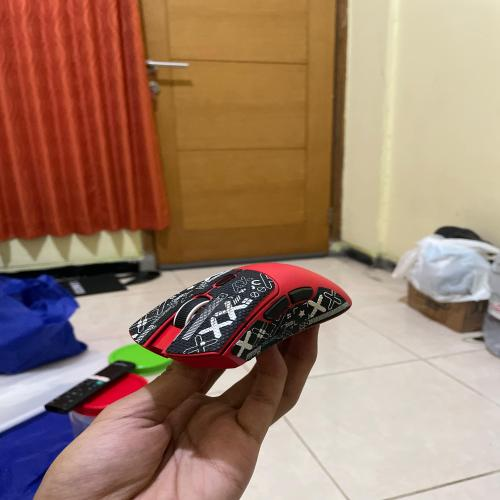Mouse: (119, 252, 366, 370)
